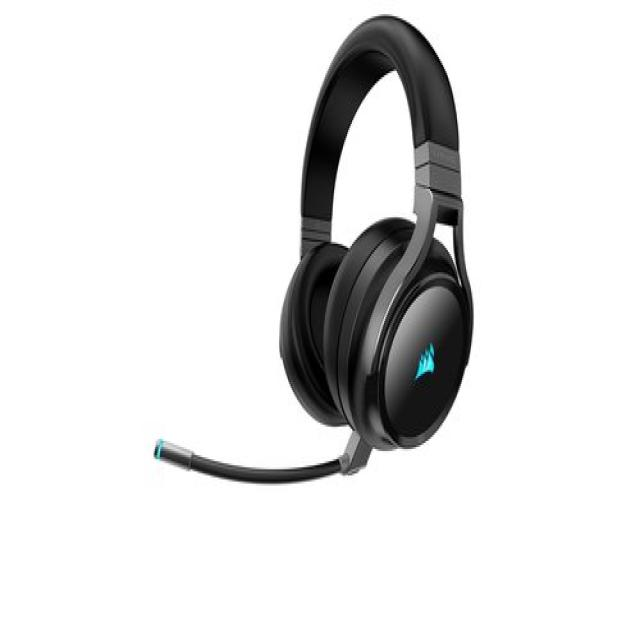headset: (287, 19, 479, 449)
